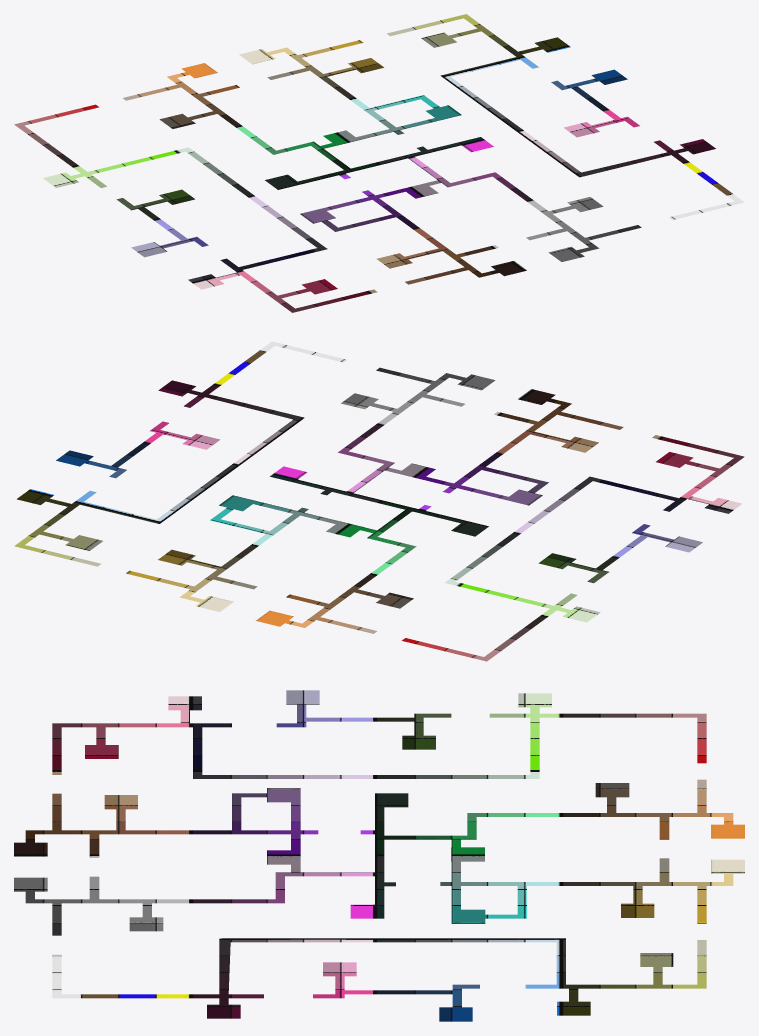
Rendered from Target_Points.fbx.
3 views of the same model, one above another, from view 1: azimuth 30°, elevation 25°; view 2: azimuth 150°, elevation 25°; view 3: azimuth 270°, elevation 25° (orthographic). The views are drawn at different scales.
Parts seen in each view (by area): view 1: Target_Points.001; view 2: Target_Points.001; view 3: Target_Points.001.
Part boxes in pixels (x1,y1,x2,y2): Target_Points.001: (14,14,744,312); Target_Points.001: (14,341,744,661); Target_Points.001: (14,690,744,1021).
Bounding box in the file's own units: 4376 × 0 × 4081.
